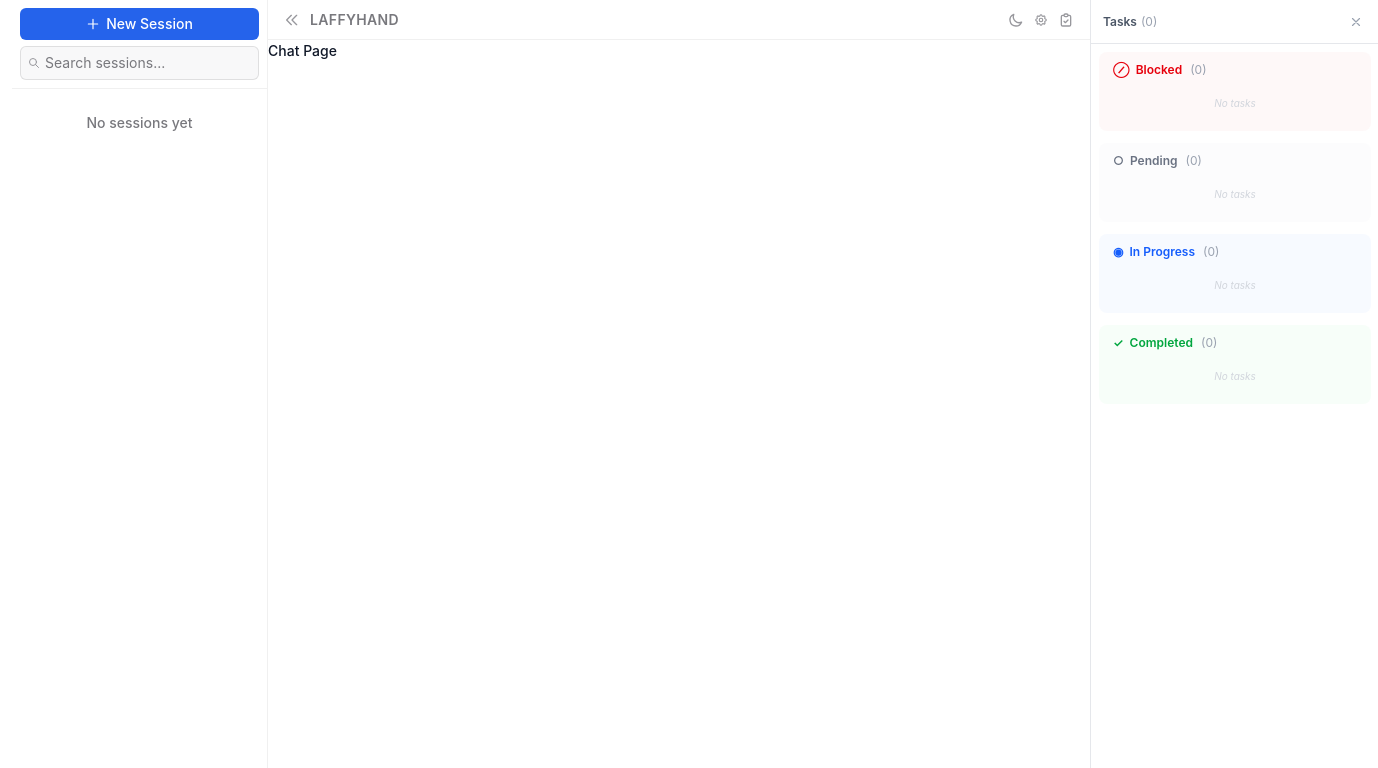
AppShell › toggles sidebar on button click
The image size is (1378, 768).
Click the button titled "Close sidebar" at [292, 20], box top-left (280, 8), bottom-right (304, 32)
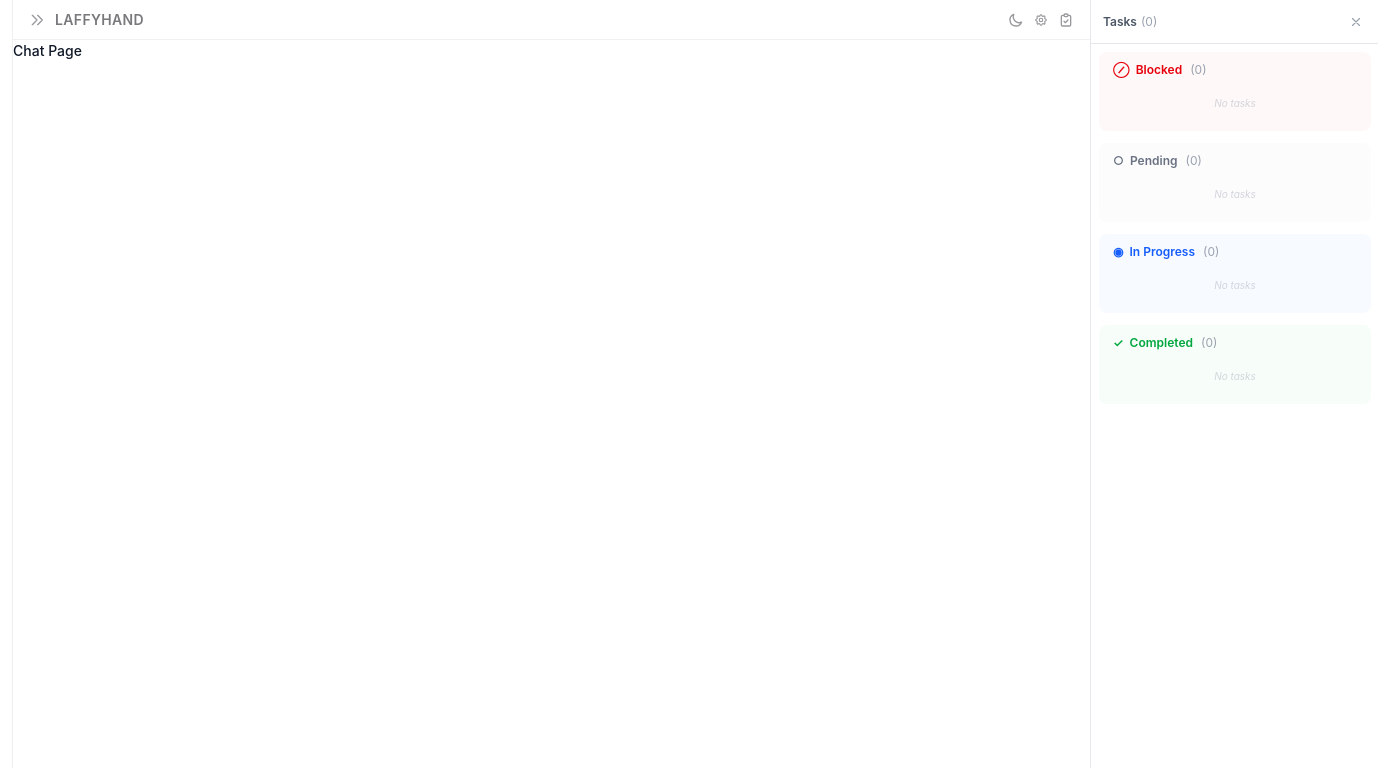
Check: the button titled "Open sidebar" is shown, box top-left (25, 8), bottom-right (49, 32)
